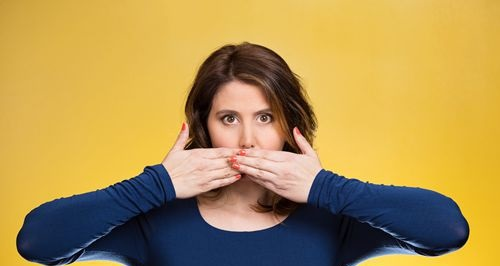face: (209, 83, 283, 179)
